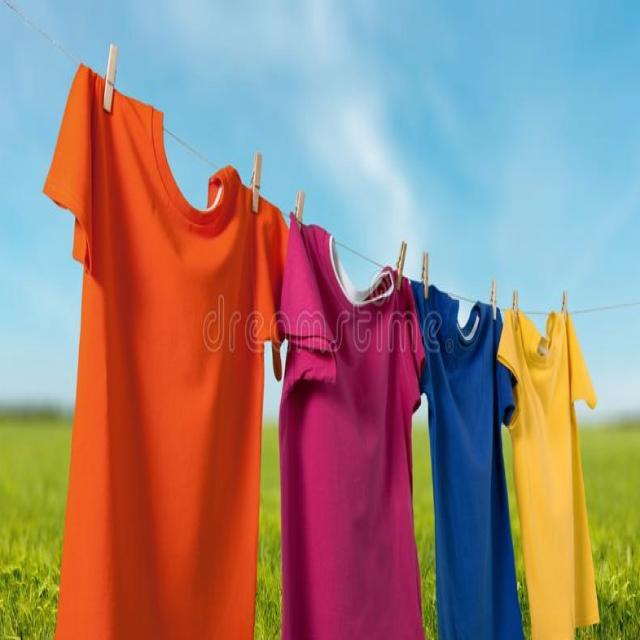clothes: (36, 67, 266, 640), (270, 185, 439, 640), (501, 295, 609, 640), (416, 267, 512, 640)
